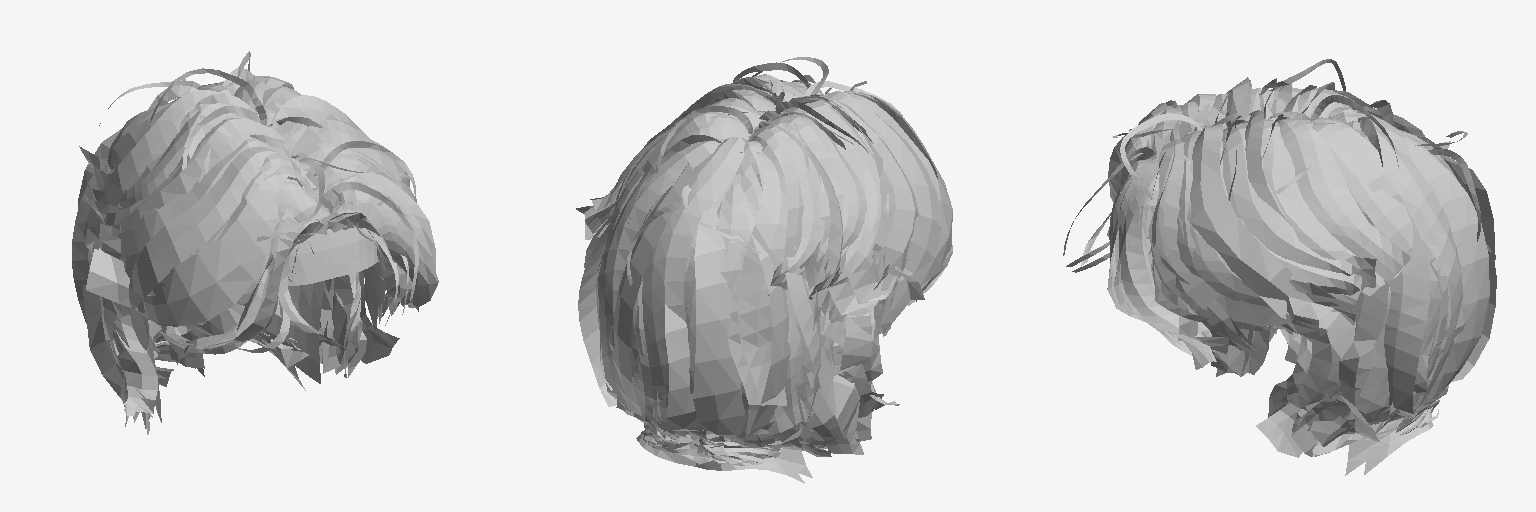
The model's file is Cabelo.obj.
3 views of the same model, side by side, from view 1: azimuth 30°, elevation 25°; view 2: azimuth 150°, elevation 25°; view 3: azimuth 270°, elevation 25° (orthographic).
Visible parts, largest first — view 1: Cabelo; view 2: Cabelo; view 3: Cabelo.
Boxes of the visible parts, <box> form: Cabelo: <box>72,51,438,434</box>; Cabelo: <box>576,57,952,483</box>; Cabelo: <box>1063,59,1496,475</box>.
Size of the model in its own units: 0.2542 by 0.2668 by 0.2914.